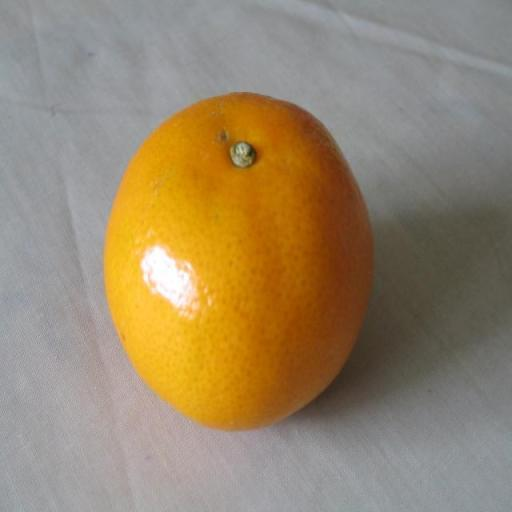fruit: (105, 92, 371, 428)
